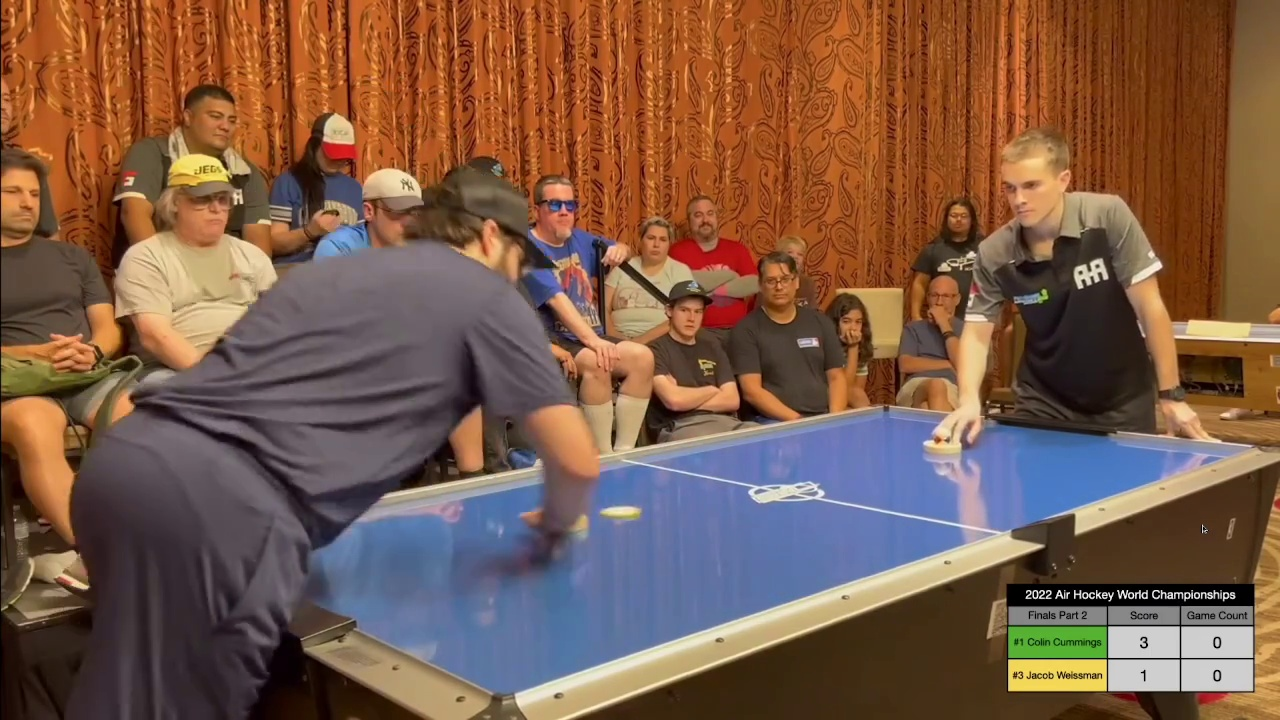player: (920, 427, 964, 456)
puck: (602, 502, 647, 522)
table: (171, 400, 1280, 707)
